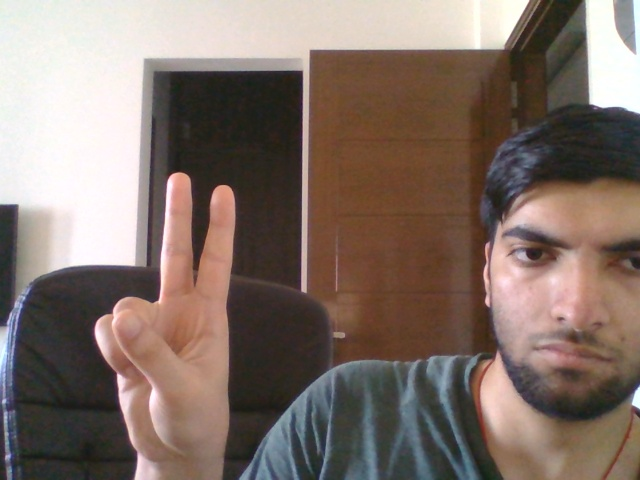LetterV: (92, 168, 237, 471)
